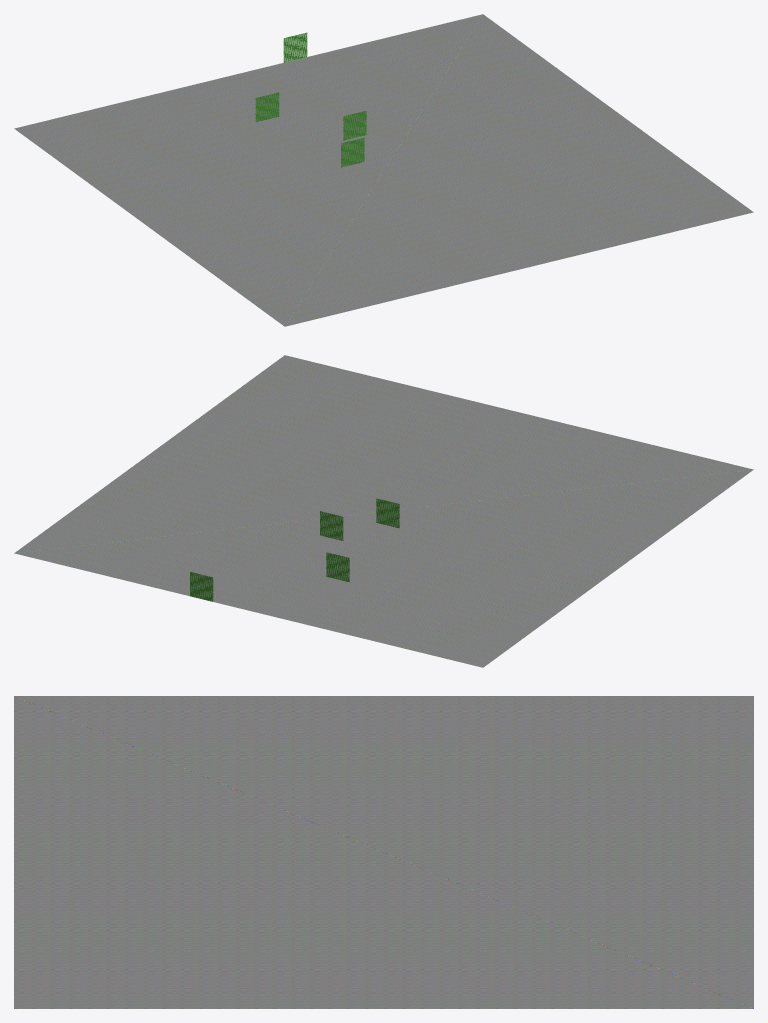
File: raycone.gltf
The picture shows the model from 3 angles, top to bottom: view 1: azimuth 30°, elevation 25°; view 2: azimuth 150°, elevation 25°; view 3: azimuth 270°, elevation 25°; orthographic projection. The views are drawn at different scales.
Size of the model in its own units: 40 by 2 by 40.
2 materials, 2 textured.
